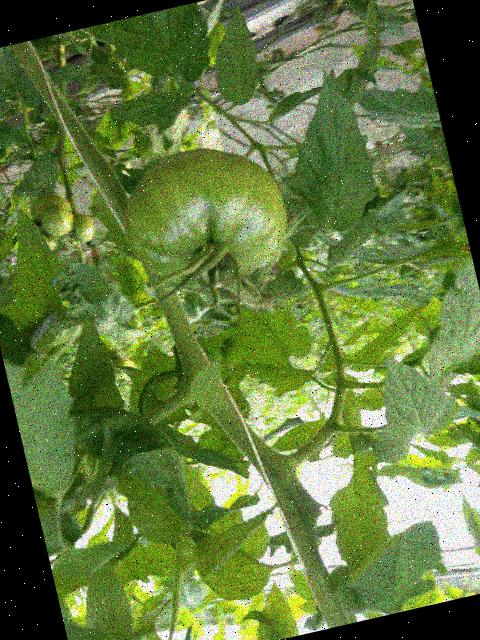b_green: (110, 131, 300, 305), (27, 189, 74, 228), (39, 201, 78, 241), (61, 210, 99, 246)
